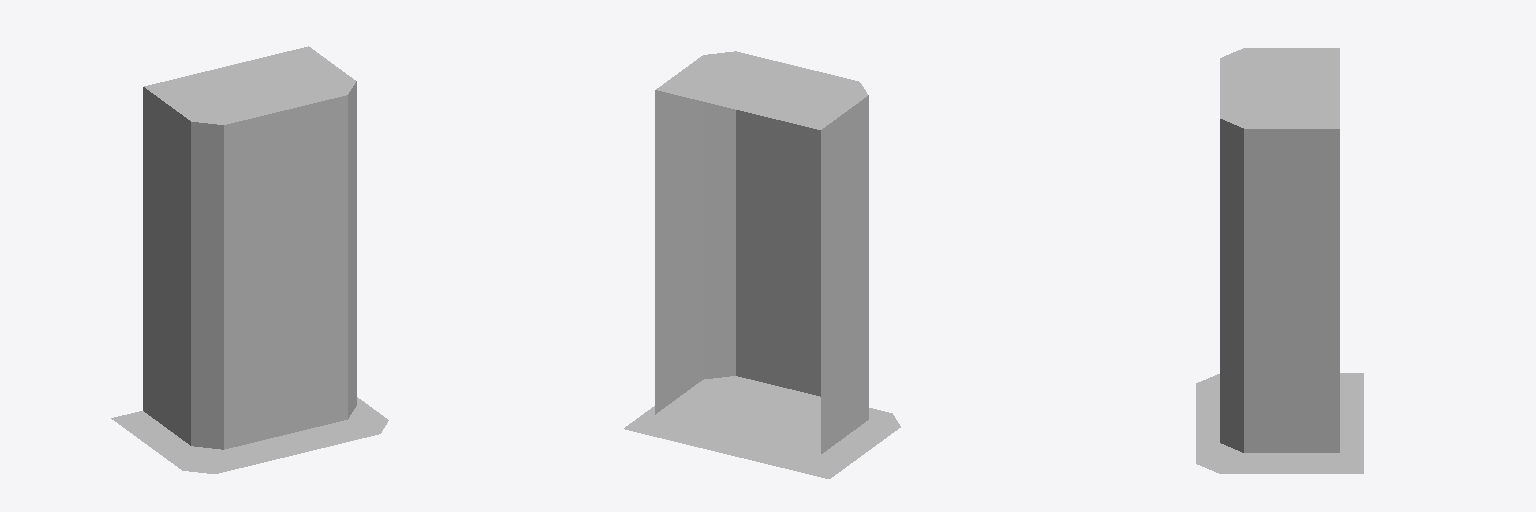
The model's file is Vending Machine.obj.
3 renders of one model, left to right at view 1: azimuth 30°, elevation 25°; view 2: azimuth 150°, elevation 25°; view 3: azimuth 270°, elevation 25°, orthographic.
Visible parts, largest first — view 1: polygon1, polygon0; view 2: polygon1, polygon0; view 3: polygon1, polygon0.
Part boxes in pixels (x1,y1,x2,y2): polygon1: (143,46,356,449); polygon0: (111,397,388,473); polygon1: (655,51,868,453); polygon0: (624,376,900,478); polygon1: (1220,48,1339,452); polygon0: (1196,373,1363,473).
Bounding box in the file's own units: 20 × 31 × 14.